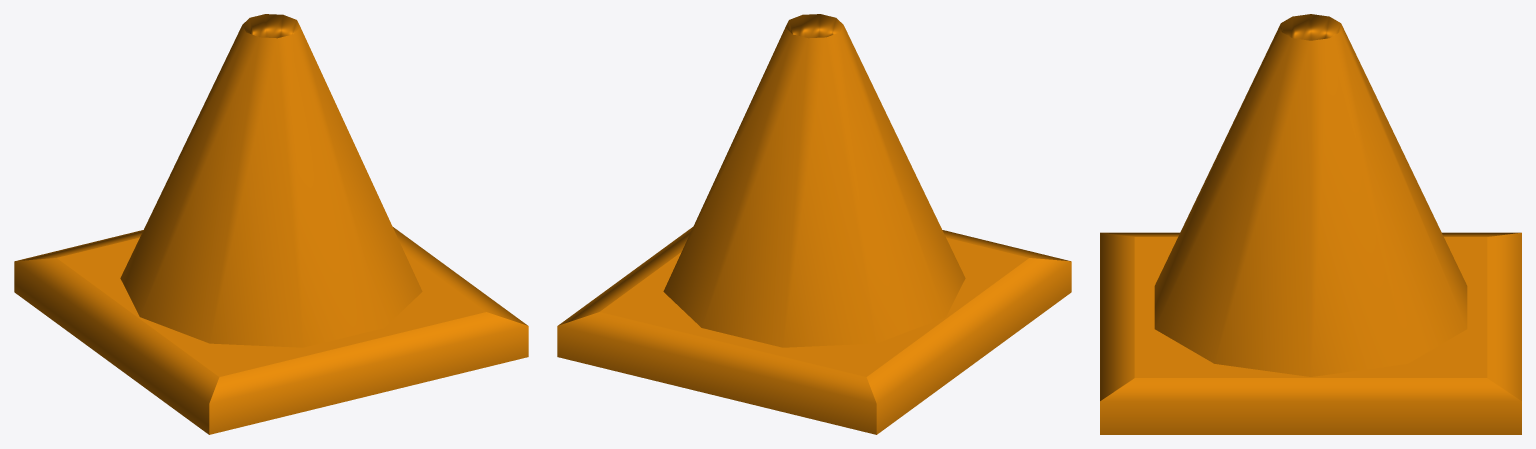
Rendered from TrafficCone1 (1).fbx.
3 renders of one model, left to right at view 1: azimuth 30°, elevation 25°; view 2: azimuth 150°, elevation 25°; view 3: azimuth 270°, elevation 25°, orthographic. The views are drawn at different scales.
Parts seen in each view (by area): view 1: ConeTop, ConeBase; view 2: ConeTop, ConeBase; view 3: ConeTop, ConeBase.
Boxes of the visible parts, bbox=[...] form: ConeTop: bbox=[120, 14, 422, 347]; ConeBase: bbox=[14, 227, 528, 434]; ConeTop: bbox=[663, 14, 965, 347]; ConeBase: bbox=[557, 227, 1071, 434]; ConeTop: bbox=[1154, 14, 1467, 376]; ConeBase: bbox=[1100, 232, 1521, 434].
Bounding box in the file's own units: 0.9465 × 0.8457 × 1.
